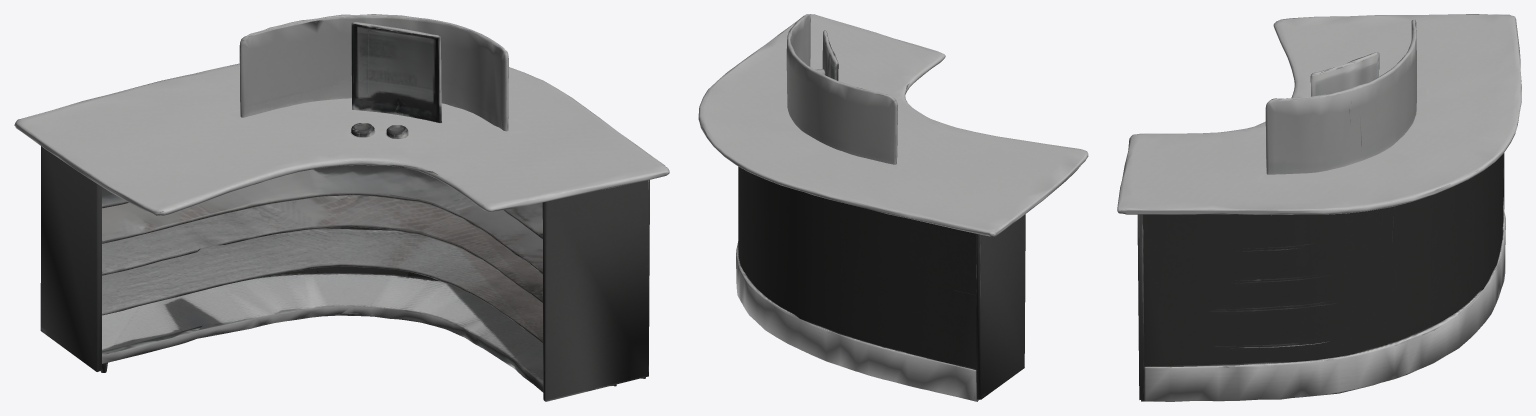
File: Meshy_AI_one_45°_wedge_of_a_reception_desk_0903105549_texture.glb
3 views of the same model, side by side, from view 1: azimuth 30°, elevation 25°; view 2: azimuth 150°, elevation 25°; view 3: azimuth 270°, elevation 25° (orthographic). The views are drawn at different scales.
Parts seen in each view (by area): view 1: mesh_node; view 2: mesh_node; view 3: mesh_node.
Part boxes in pixels (x1,y1,x2,y2): mesh_node: [14, 14, 669, 401]; mesh_node: [698, 14, 1088, 401]; mesh_node: [1117, 14, 1521, 401].
Bounding box in the file's own units: 1 × 0.6738 × 0.8652.
1 material, 1 textured.
